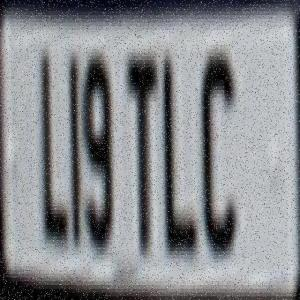Plate: (4, 10, 293, 284)
